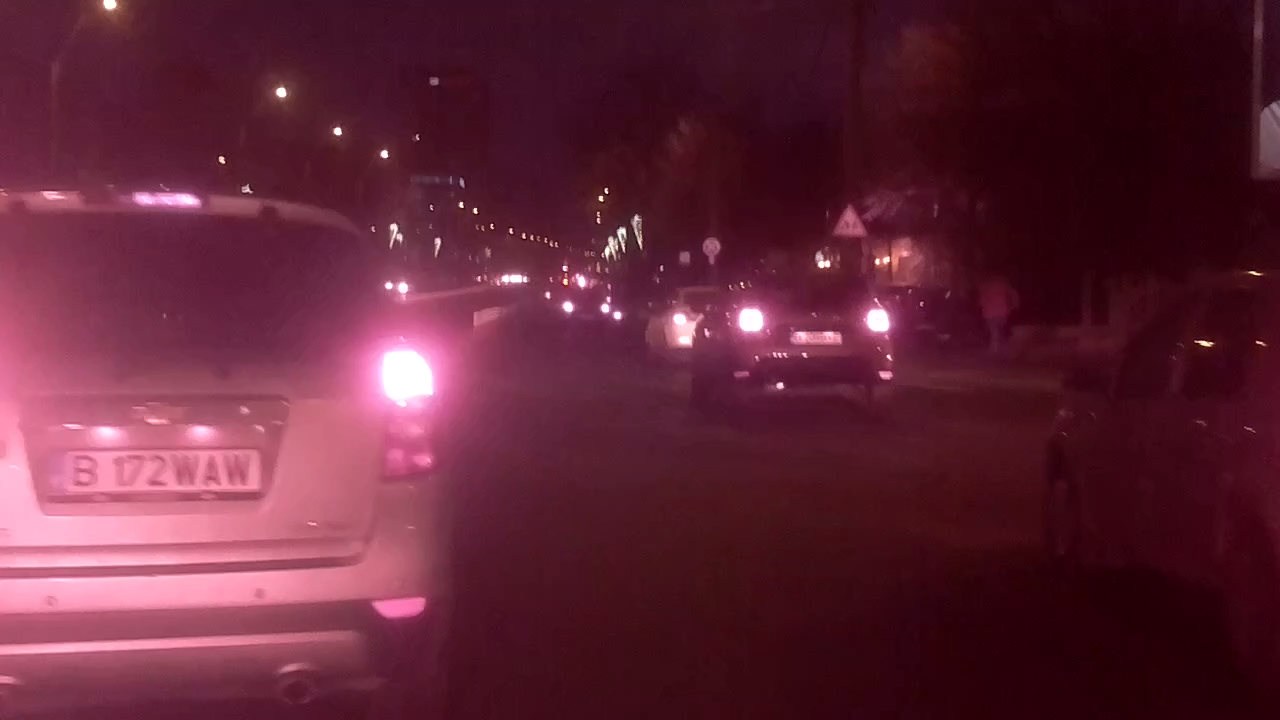license-plate: (36, 441, 267, 500)
